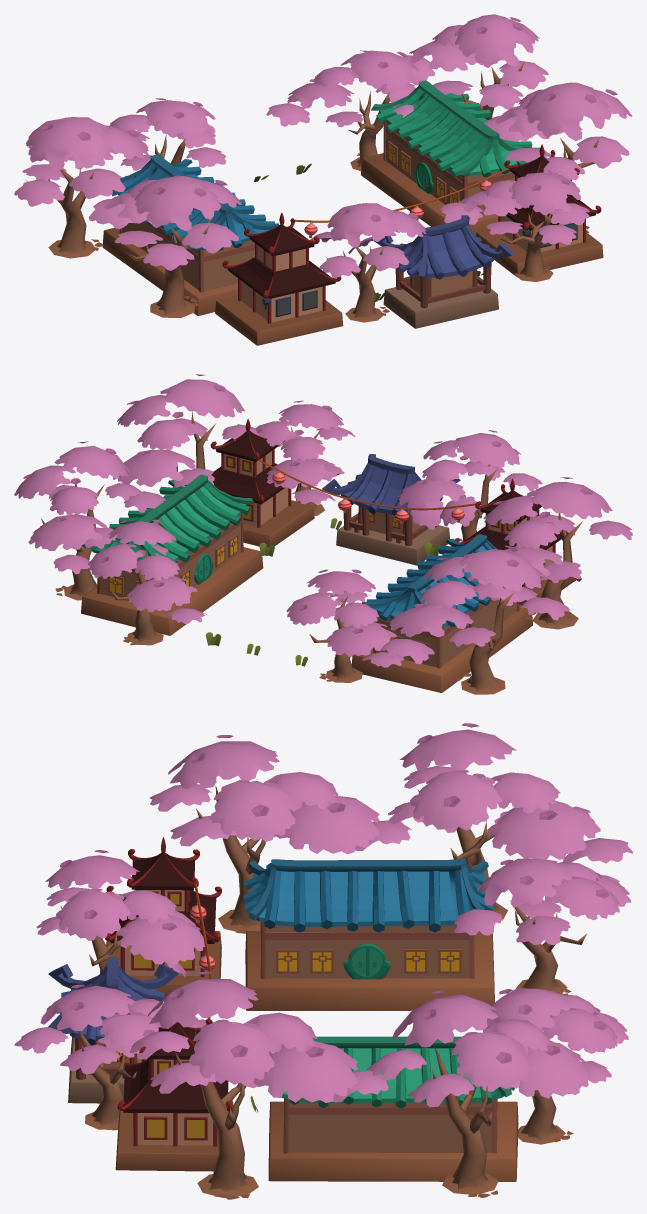
3 renders of one model, top to bottom at view 1: azimuth 30°, elevation 25°; view 2: azimuth 150°, elevation 25°; view 3: azimuth 270°, elevation 25°, orthographic. The views are drawn at different scales.
Visible parts, largest first — view 1: Map05_Environment; view 2: Map05_Environment; view 3: Map05_Environment.
Part boxes in pixels (<box>): Map05_Environment: <box>14,14,632,345</box>; Map05_Environment: <box>14,374,632,694</box>; Map05_Environment: <box>14,723,632,1199</box>.
Bounding box in the file's own units: 42.28 × 11.55 × 32.28.
Materials: 2 (2 with a texture image).
